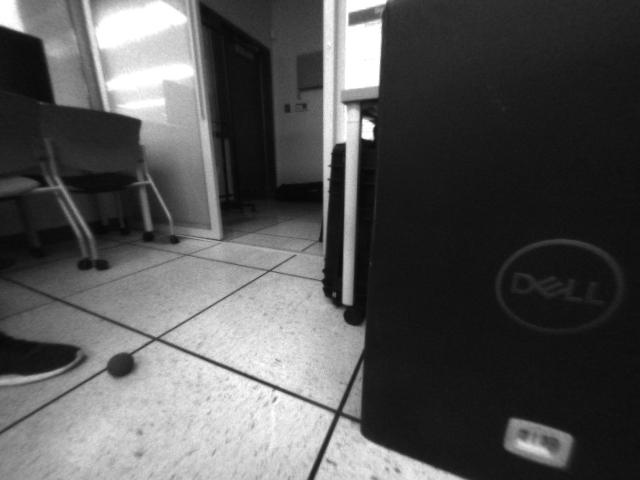dogtoy: (101, 348, 143, 379)
